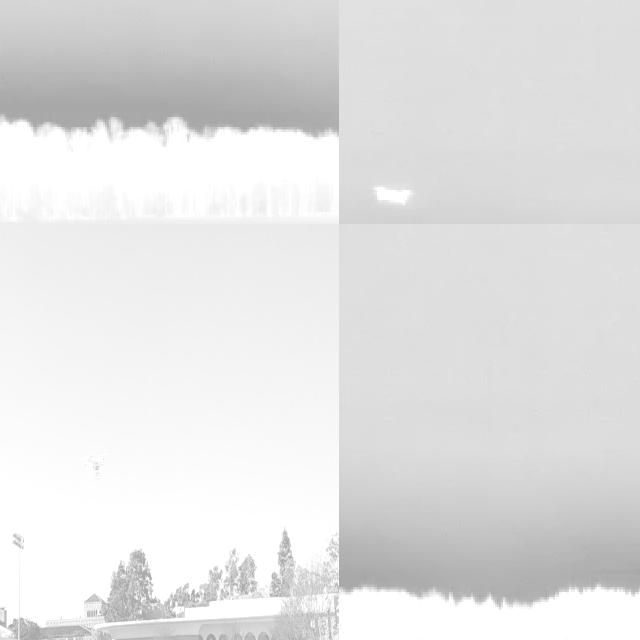1: (362, 180, 422, 215)
drone: (86, 449, 110, 478)
